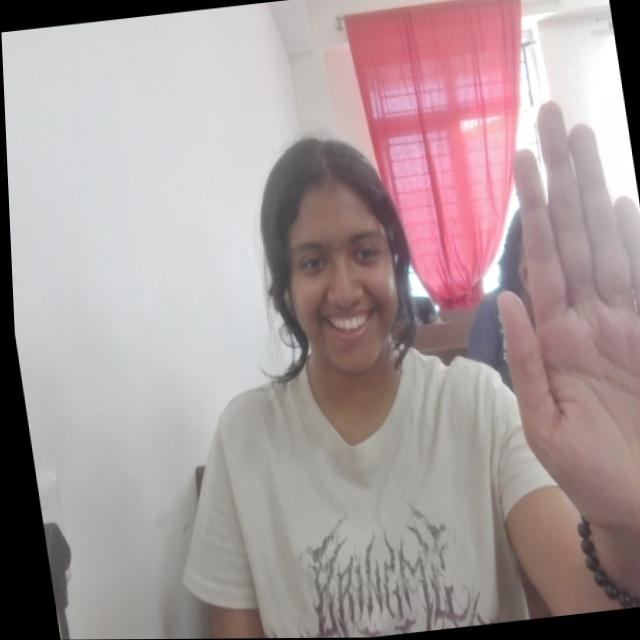hello: (463, 87, 640, 553)
